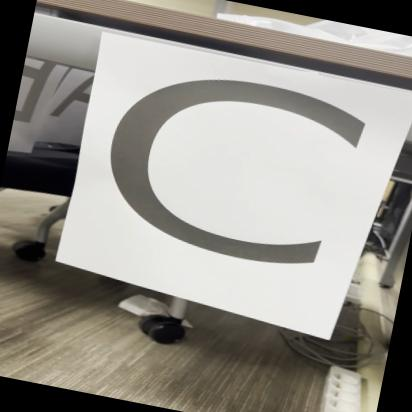seat: (62, 31, 408, 340)
